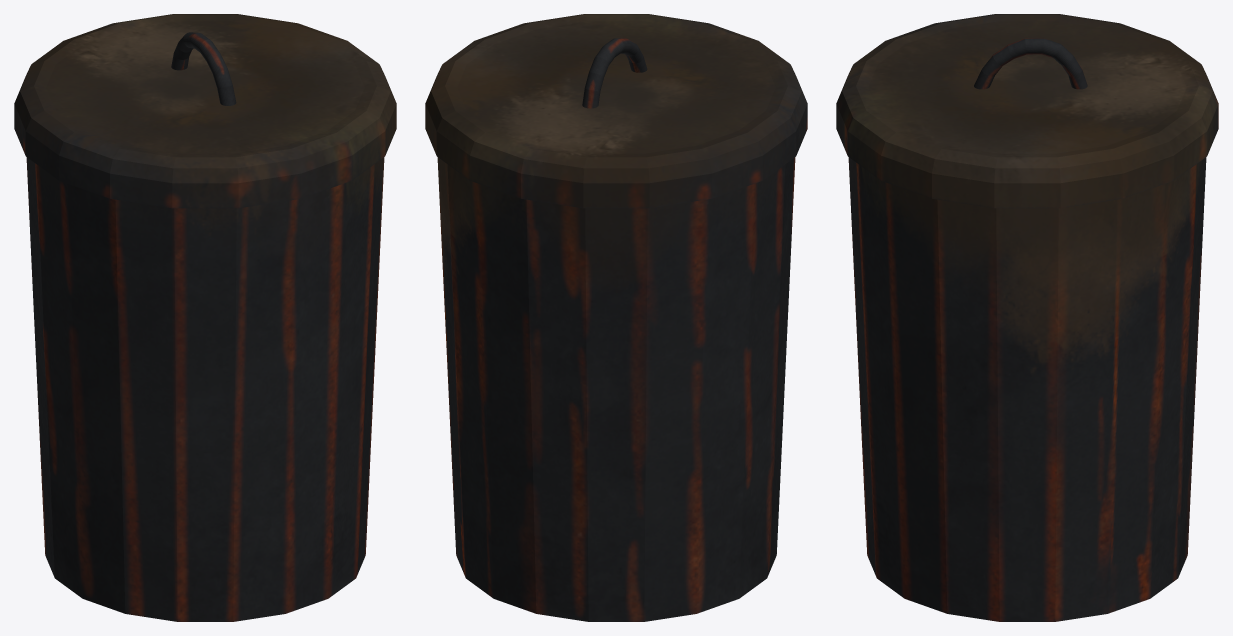
The model's file is Bin.fbx.
3 renders of one model, left to right at view 1: azimuth 30°, elevation 25°; view 2: azimuth 150°, elevation 25°; view 3: azimuth 270°, elevation 25°, orthographic.
Visible parts, largest first — view 1: Cylinder.034, Cylinder.035, Circle; view 2: Cylinder.034, Cylinder.035, Circle; view 3: Cylinder.034, Cylinder.035, Circle.
Boxes of the visible parts, box(x1,y1,x2,y2) form: Cylinder.034: box(26, 157, 384, 621); Cylinder.035: box(14, 14, 396, 208); Circle: box(171, 32, 236, 105); Cylinder.034: box(437, 157, 795, 621); Cylinder.035: box(425, 14, 807, 208); Circle: box(582, 38, 647, 108); Cylinder.034: box(848, 157, 1206, 621); Cylinder.035: box(836, 14, 1218, 208); Circle: box(974, 38, 1087, 89).
Bounding box in the file's own units: 27.91 × 42.21 × 28.34.
